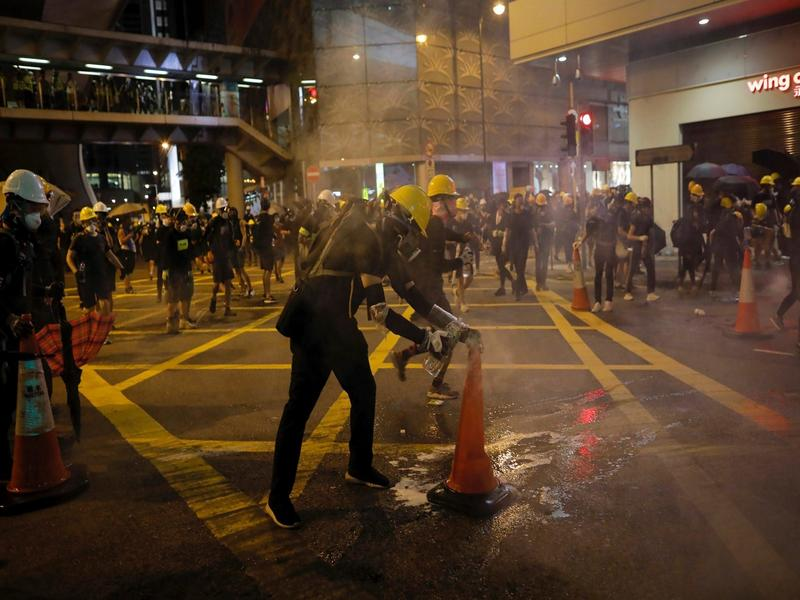Cone: (426, 347, 521, 522)
